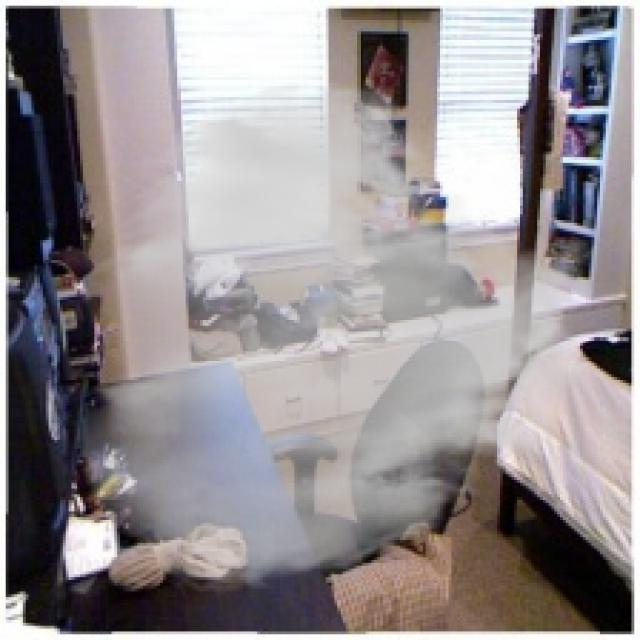Smoke: (71, 77, 600, 597)
